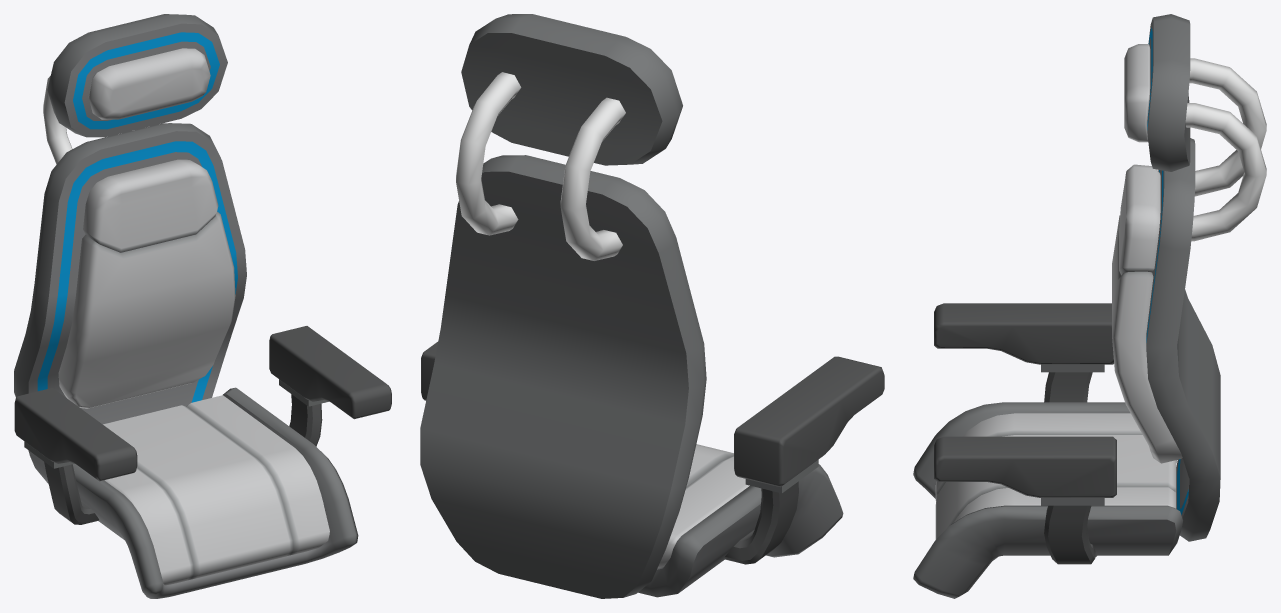
File: Armchair_011_Chair_01.fbx
3 views of the same model, side by side, from view 1: azimuth 30°, elevation 25°; view 2: azimuth 150°, elevation 25°; view 3: azimuth 270°, elevation 25° (orthographic). The views are drawn at different scales.
Parts seen in each view (by area): view 1: Armchair_011_Chair_01; view 2: Armchair_011_Chair_01; view 3: Armchair_011_Chair_01.
Part boxes in pixels (x1,y1,x2,y2): Armchair_011_Chair_01: (14,14,391,598); Armchair_011_Chair_01: (420,14,884,598); Armchair_011_Chair_01: (913,14,1266,598).
Size of the model in its own units: 90.47 by 87.42 by 142.
